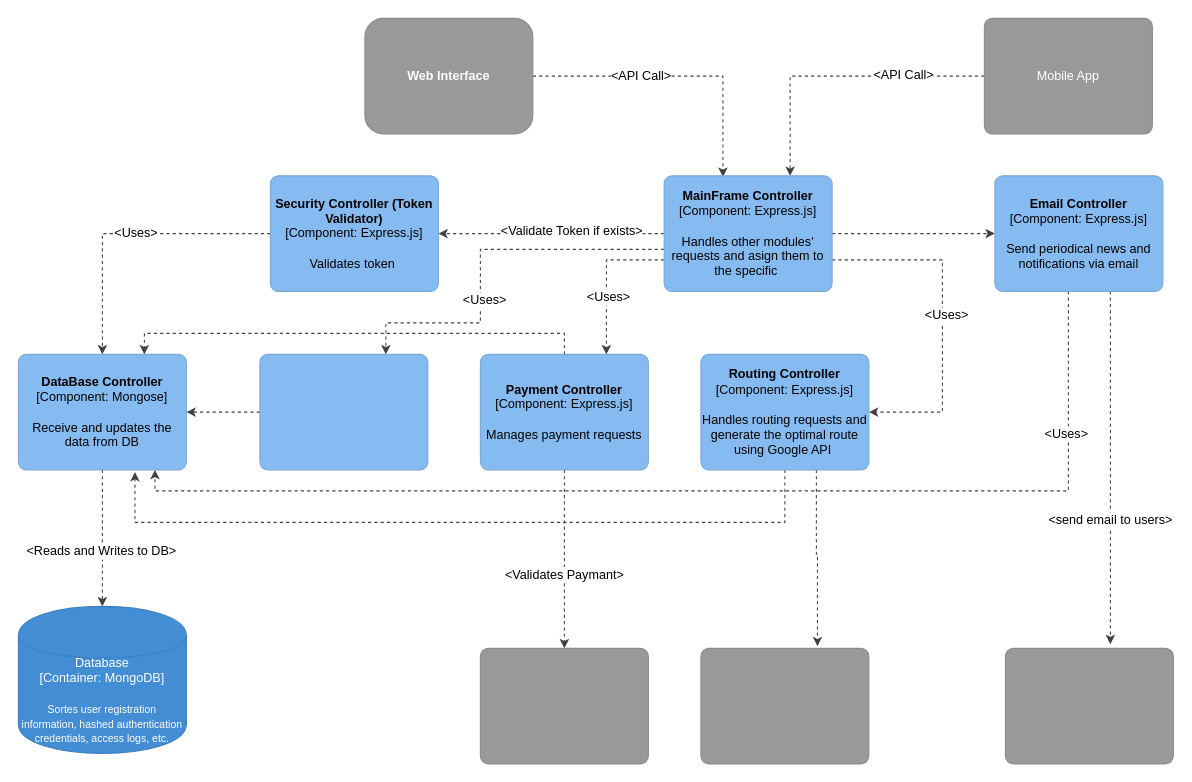
This 1192x782 diagram has some shape labels left out. The shapes that lost their labels are listed below. From the top down, each one's centre as x and y in pixels, then its label:
At point (343, 411): "User Controller [Component: Express.js ] Manages user profile".
At point (563, 705): "Payment System [Software paypal?] External payment sistem".
At point (784, 705): "Google Maps API [Google Software] External API".
At point (1088, 705): "Email System [Software System] Email API or Plugin".
